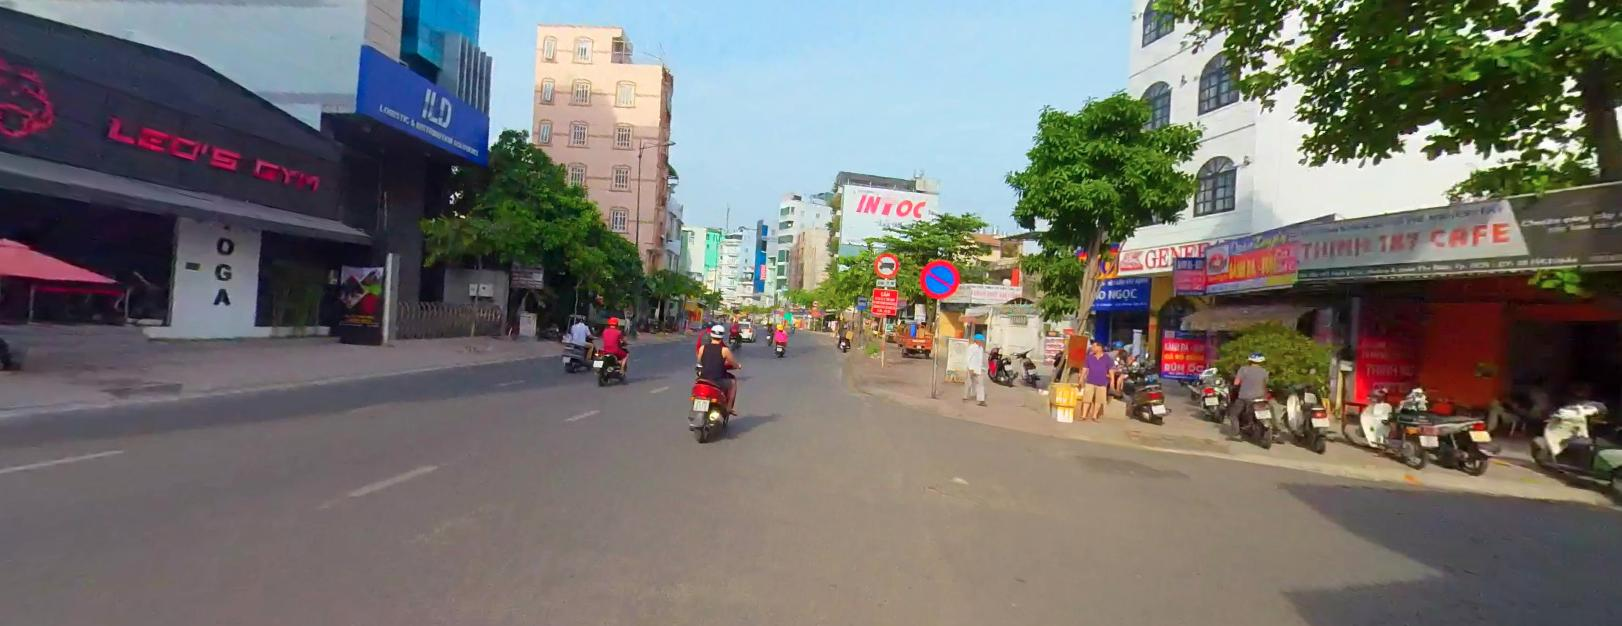Cam con lai: (874, 252, 898, 275), (812, 298, 818, 304)
Cam dung va do: (919, 258, 960, 297)
